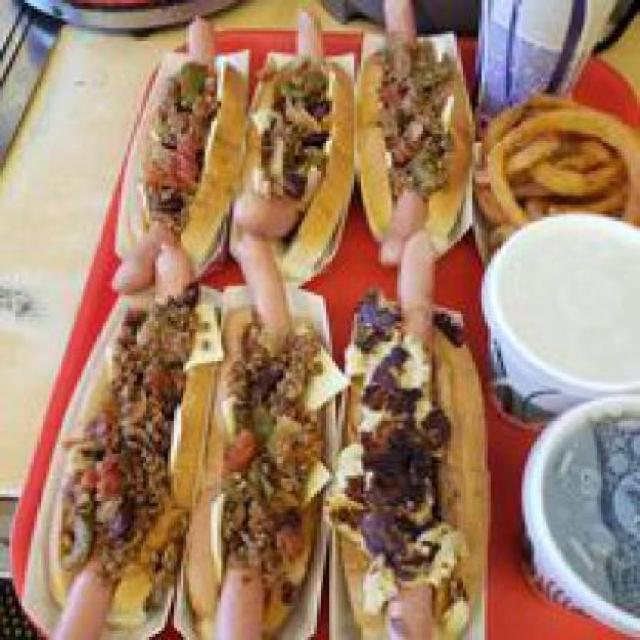hot dog: (102, 192, 447, 330), (49, 546, 442, 637)
macaroni and cheese: (338, 326, 457, 597)
onion rings: (472, 87, 637, 236)
